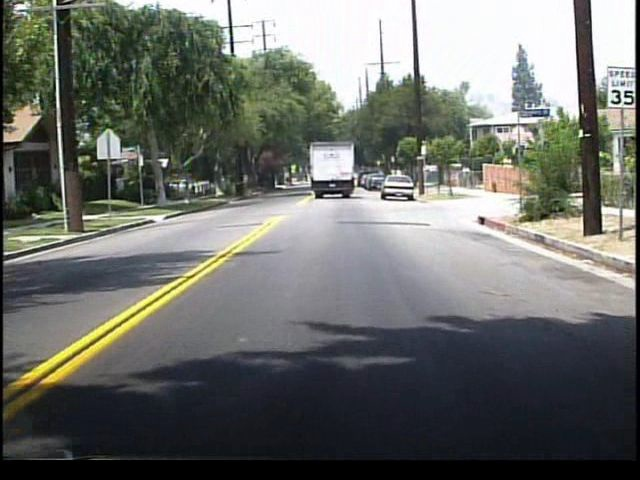person: (460, 164, 471, 190)
